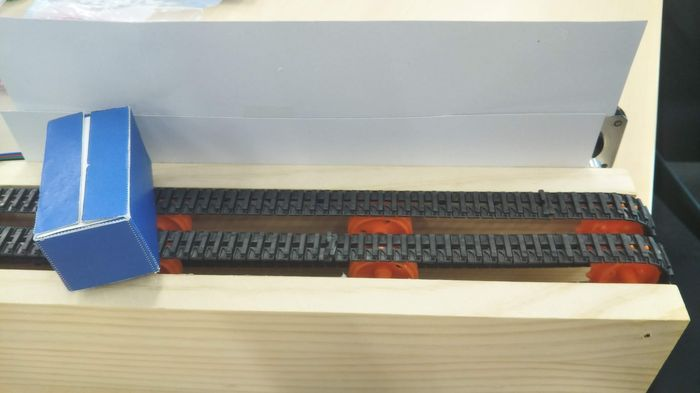box3: (28, 105, 163, 295)
